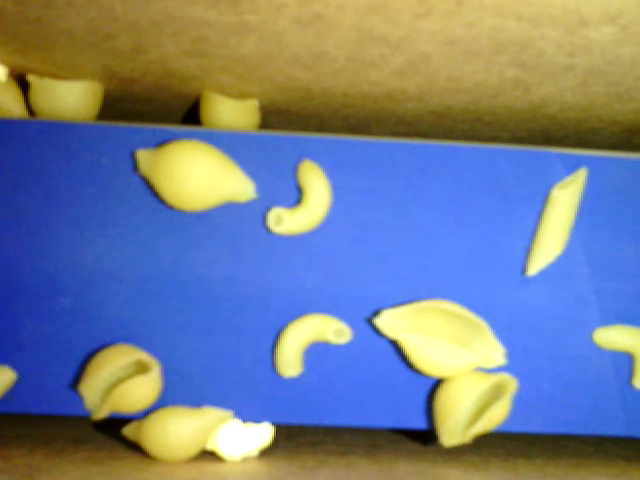elbow: (273, 311, 353, 377), (265, 159, 333, 236), (593, 324, 639, 387)
penne: (524, 165, 587, 277)
shell: (370, 297, 507, 380), (134, 137, 257, 213), (76, 341, 163, 421), (429, 371, 520, 446), (121, 403, 233, 463), (25, 73, 105, 121), (198, 87, 260, 132)
